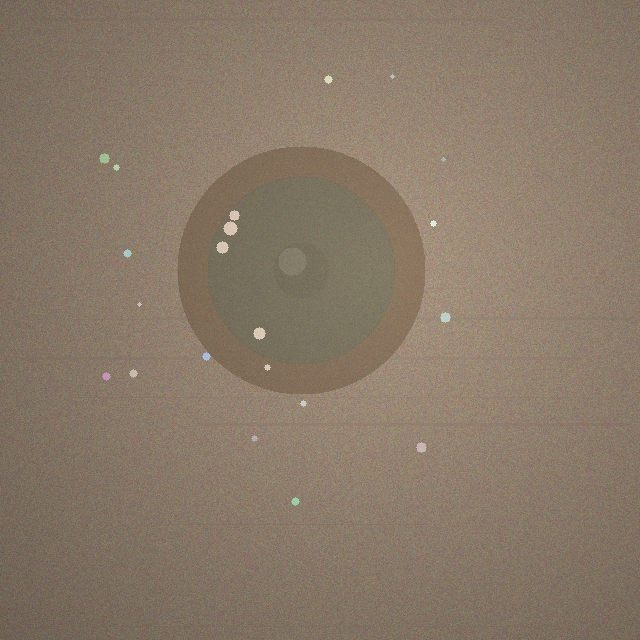overburn: (177, 146, 425, 394)
